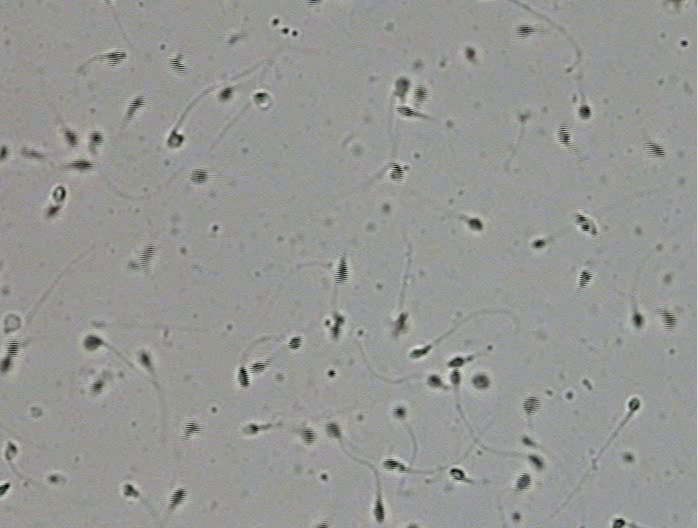S: (572, 213, 597, 236), (330, 313, 345, 339), (659, 309, 676, 331), (169, 488, 187, 508), (645, 140, 665, 158), (105, 51, 127, 67), (522, 396, 541, 414), (139, 244, 155, 265), (393, 313, 408, 335), (335, 260, 349, 283), (128, 96, 146, 113), (394, 78, 410, 97), (556, 125, 571, 145), (373, 499, 385, 523), (237, 366, 250, 387), (169, 57, 186, 73), (167, 131, 184, 147), (515, 473, 532, 489), (389, 163, 404, 181), (190, 168, 207, 183), (184, 420, 201, 435), (64, 129, 78, 147), (6, 339, 20, 357), (579, 270, 593, 288), (4, 442, 17, 461), (70, 159, 92, 170), (325, 422, 341, 437), (83, 335, 101, 348), (517, 24, 535, 37), (89, 131, 104, 146), (301, 428, 315, 444), (473, 374, 489, 388), (413, 86, 427, 102), (449, 468, 466, 481), (410, 347, 430, 358), (395, 106, 415, 117), (631, 311, 643, 329), (218, 87, 233, 101), (528, 454, 543, 468), (467, 217, 483, 230), (578, 104, 591, 120), (53, 186, 66, 201), (249, 361, 265, 373), (450, 368, 461, 385), (138, 352, 151, 366), (288, 336, 302, 349), (393, 406, 407, 419), (243, 424, 259, 435), (1, 355, 11, 372), (448, 357, 465, 367), (90, 381, 103, 394), (427, 375, 441, 387), (628, 397, 640, 411), (254, 92, 269, 103), (382, 459, 397, 470), (1, 481, 11, 497), (47, 206, 60, 217), (612, 518, 626, 528), (531, 239, 546, 248), (123, 484, 134, 495), (465, 47, 475, 59), (1, 146, 8, 161), (522, 436, 532, 446), (306, 1, 318, 7), (317, 522, 328, 528)
